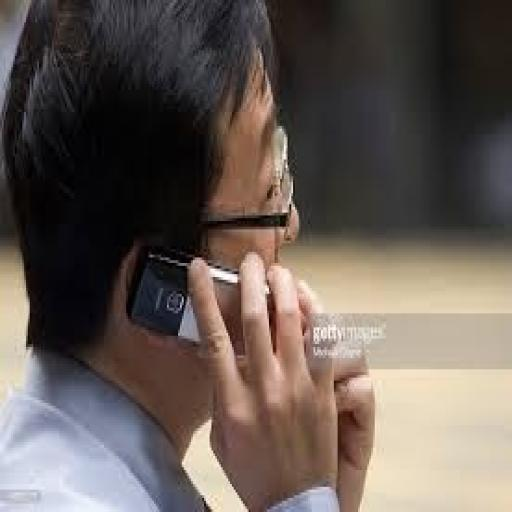calling: (0, 0, 377, 509)
